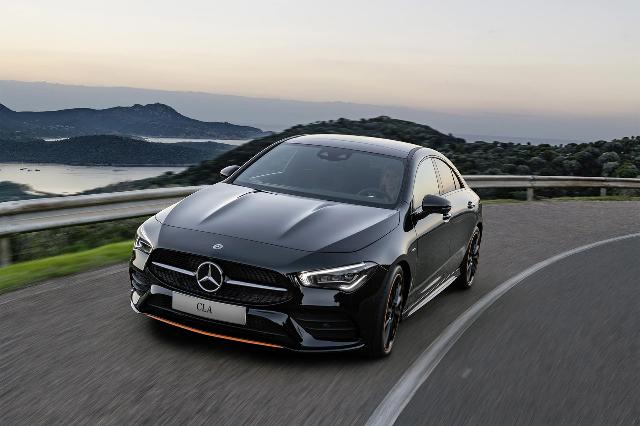benz: (128, 132, 484, 360)
